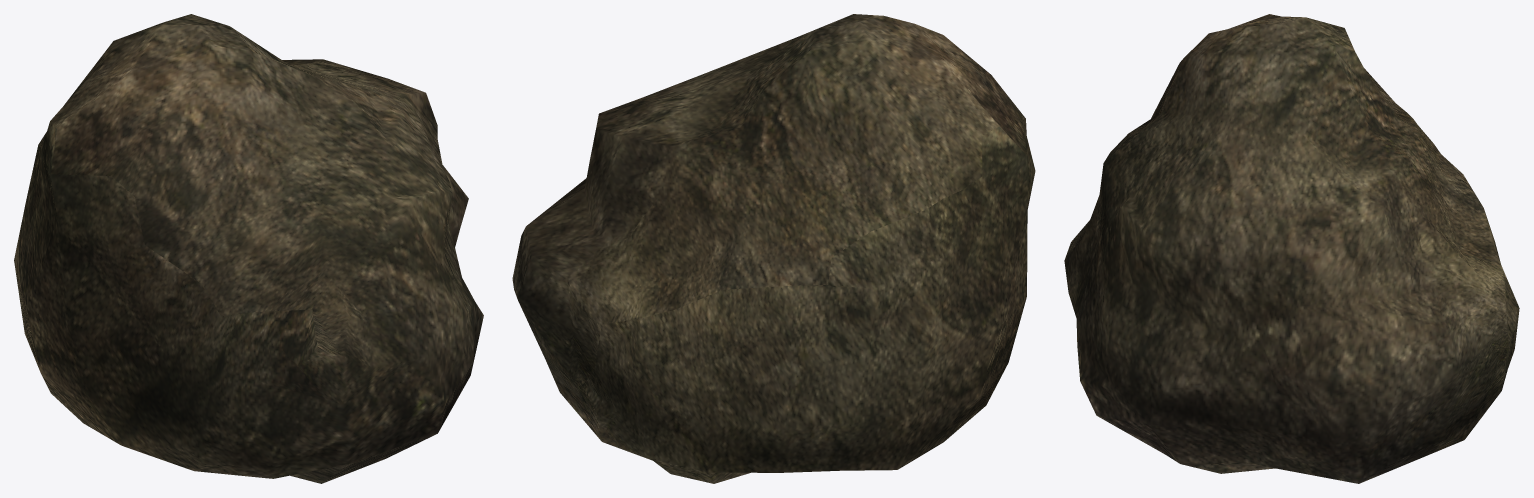
The model's file is LCRG_Rock01.fbx.
3 renders of one model, left to right at view 1: azimuth 30°, elevation 25°; view 2: azimuth 150°, elevation 25°; view 3: azimuth 270°, elevation 25°, orthographic. The views are drawn at different scales.
Parts seen in each view (by area): view 1: LCRG_Rock01; view 2: LCRG_Rock01; view 3: LCRG_Rock01.
Boxes of the visible parts, x1=… form: LCRG_Rock01: x1=14, y1=14, x2=483, y2=483; LCRG_Rock01: x1=512, y1=14, x2=1035, y2=483; LCRG_Rock01: x1=1064, y1=14, x2=1519, y2=483.
Size of the model in its own units: 2.98 by 2.8 by 2.92.
